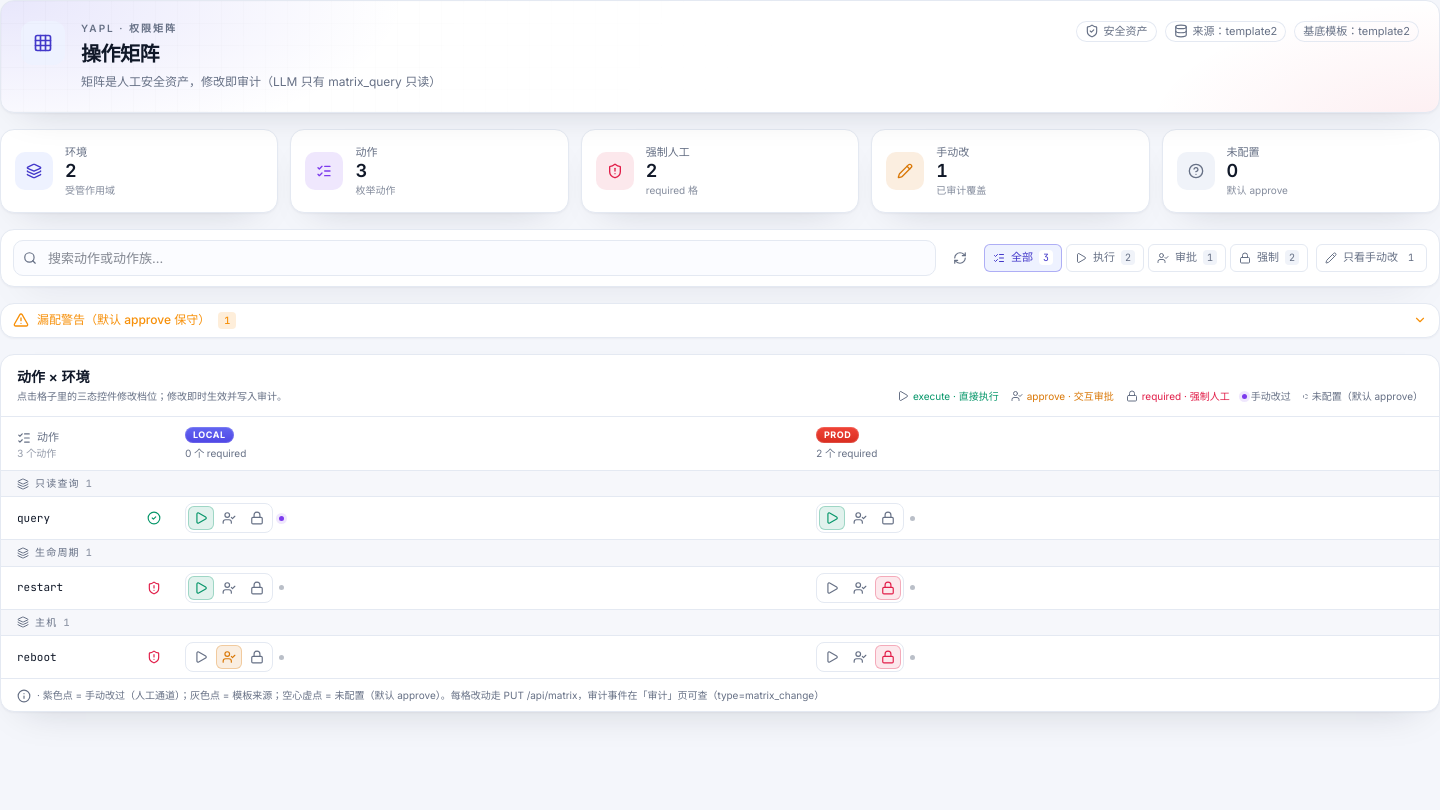
Test: MatrixPage › 保存失败：回滚乐观更新并显示错误
Click the button named "restart × prod：直接执行（低风险）": coordinates (832, 588) [819, 576, 845, 600]
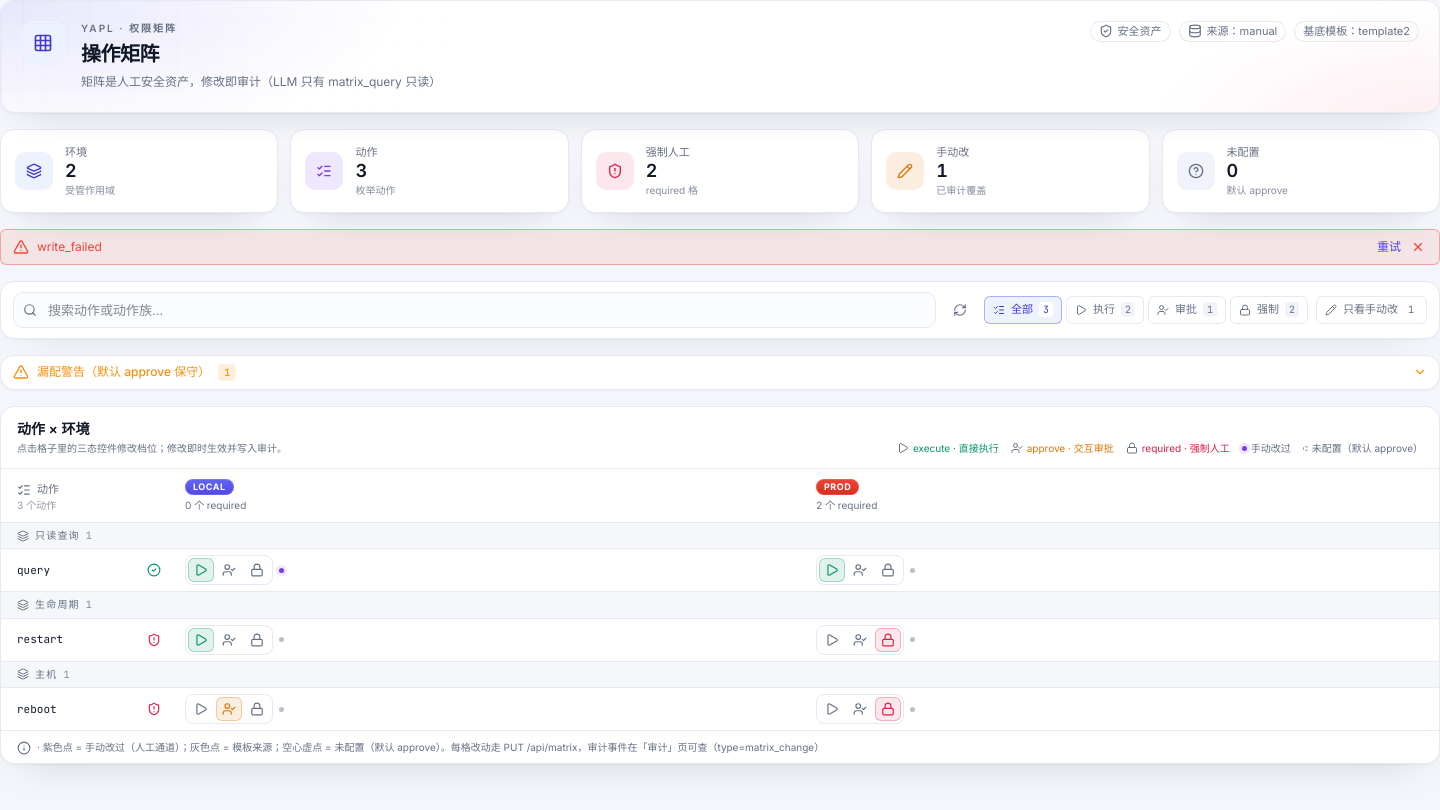
Expected: the text "write_failed" is shown, [37, 238, 102, 254]
